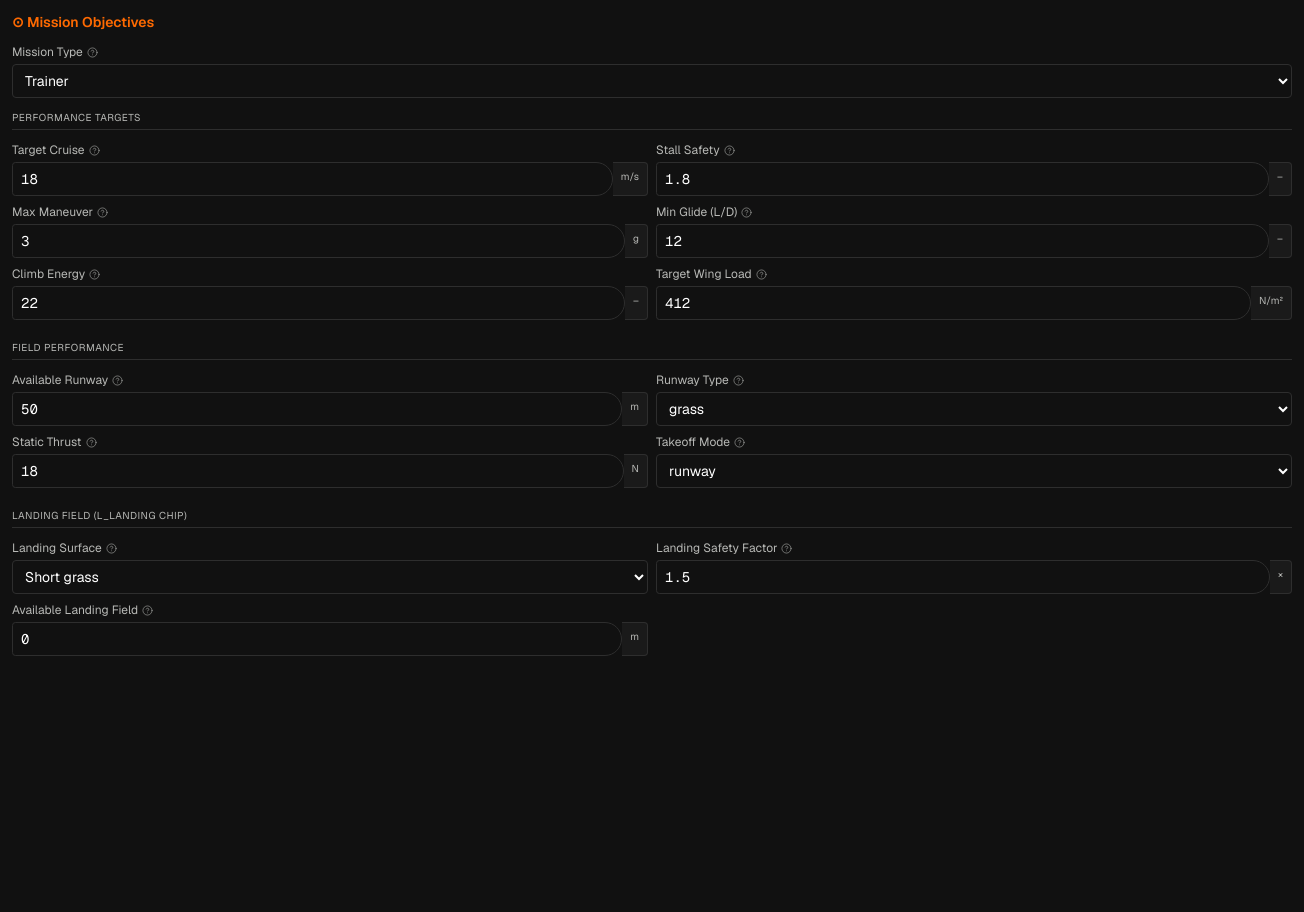
Scenario: MissionObjectivesPanel › shows the apply banner after mission_type change with English copy (gh-601)
Select "Motor Glider" in the dropdown labelled "Mission Type": (652, 81) [12, 64, 1292, 98]
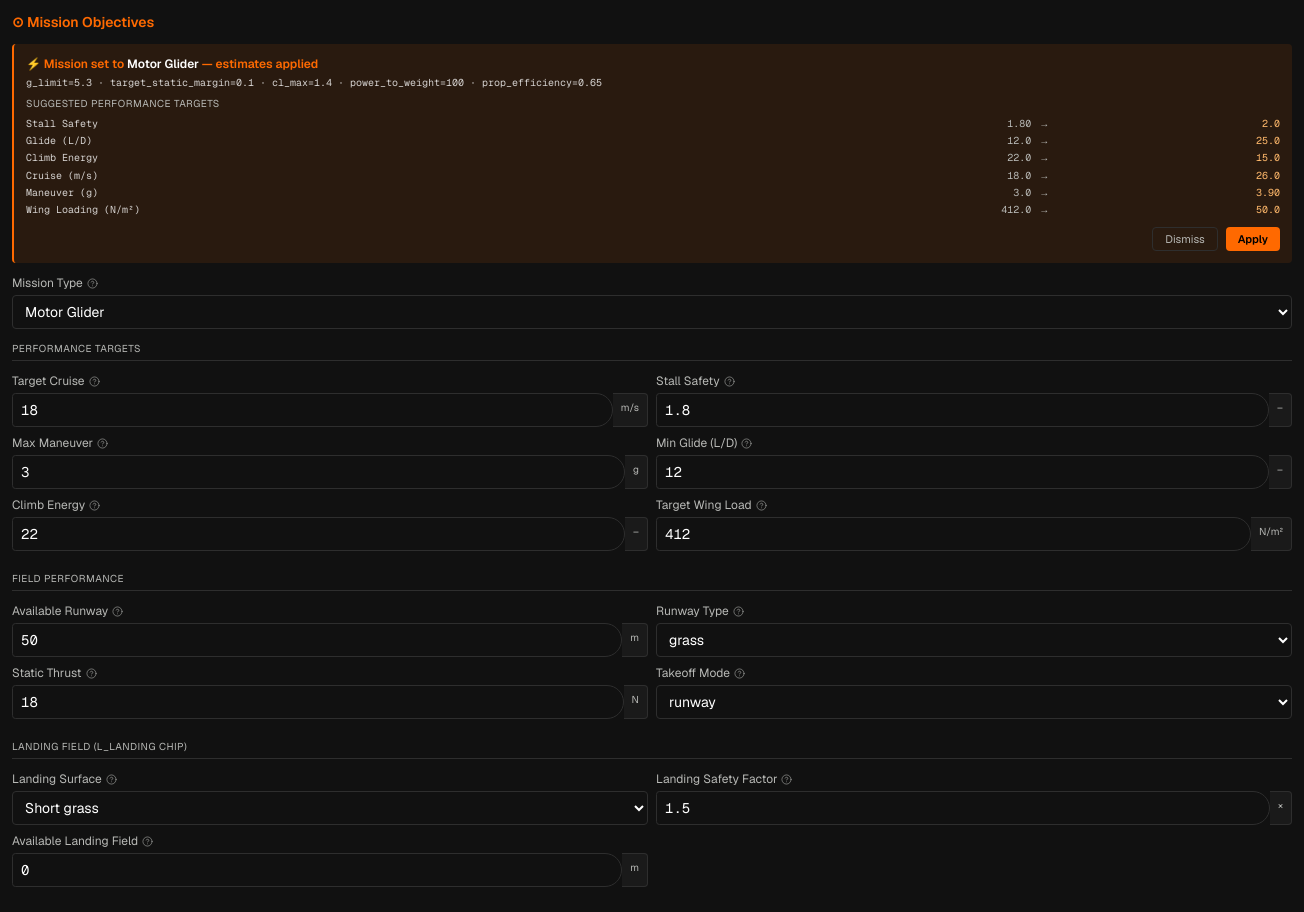
Expected: the element with test id "mission-apply-banner" is shown, [12, 44, 1292, 263]
Expected: the element with test id "mission-apply-banner" shows "Mission set to", [26, 56, 127, 72]
